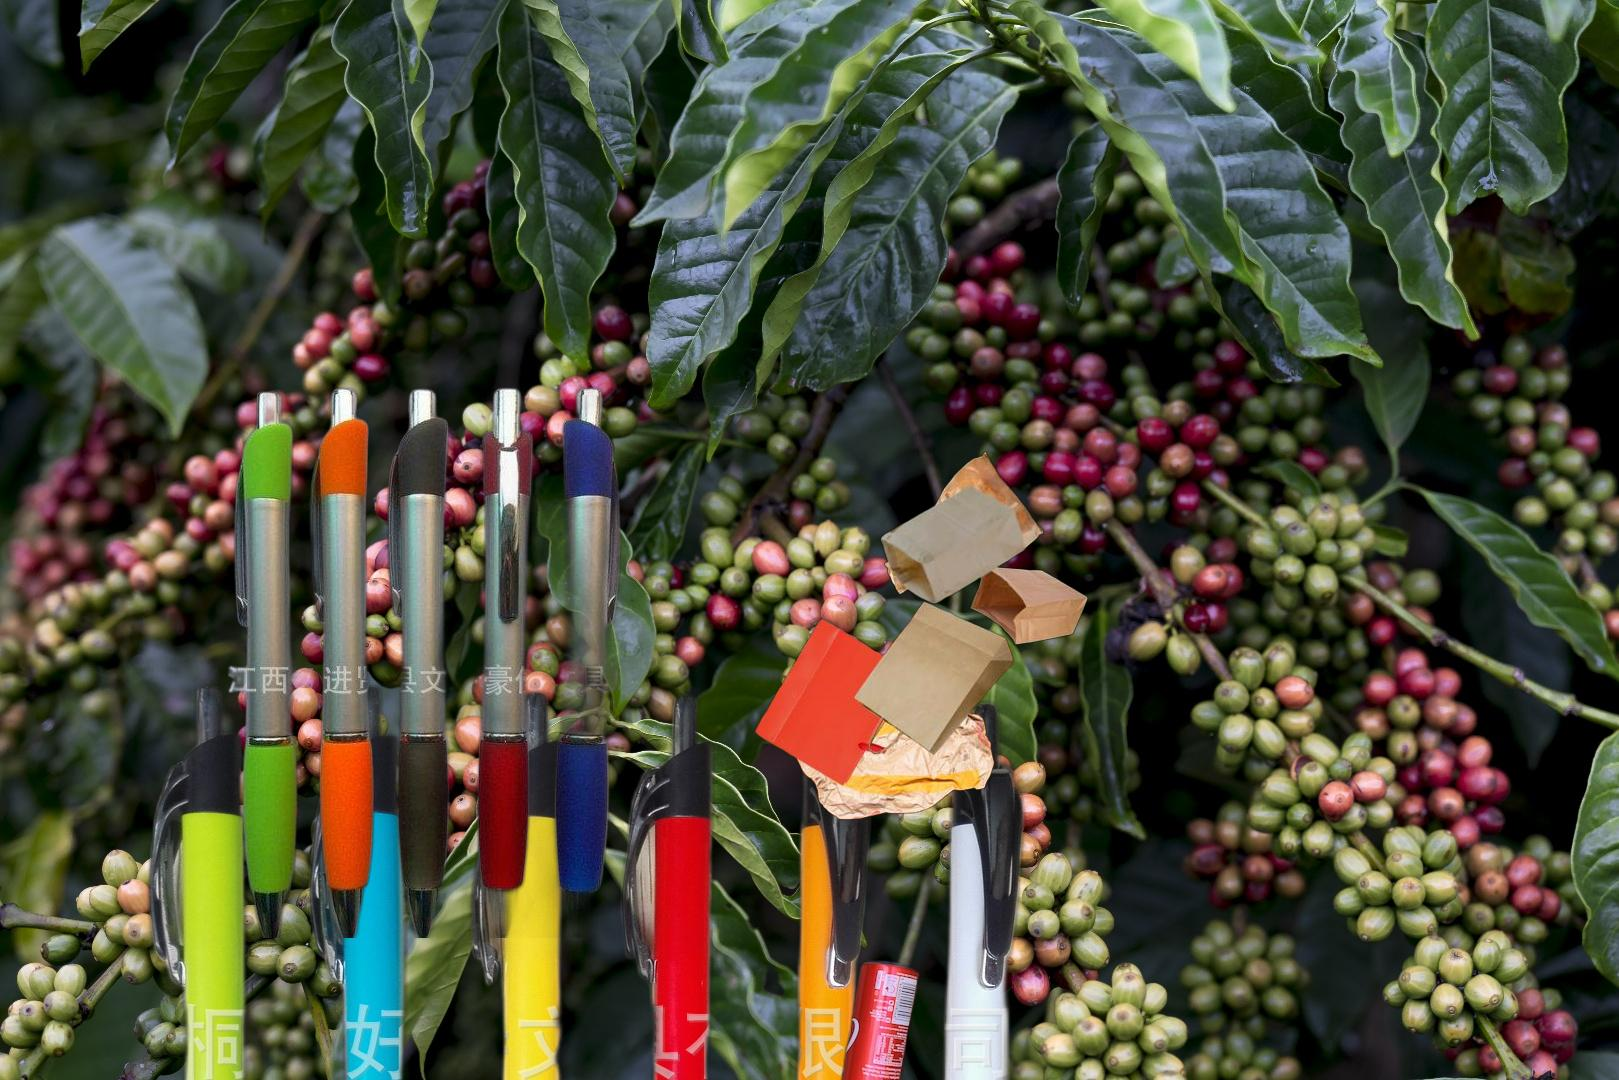metal-cans: (834, 953, 923, 1080)
paper-bag: (752, 600, 1017, 821), (879, 450, 1134, 648)
penholder: (140, 677, 1032, 1080), (223, 383, 662, 938)
